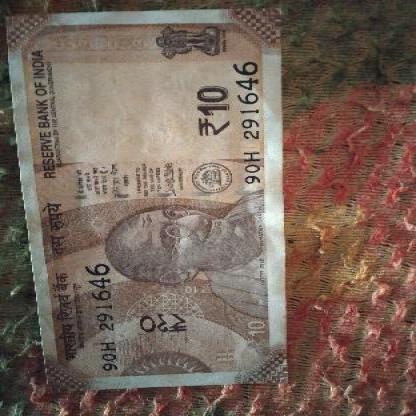New10Front: (3, 9, 288, 384)
